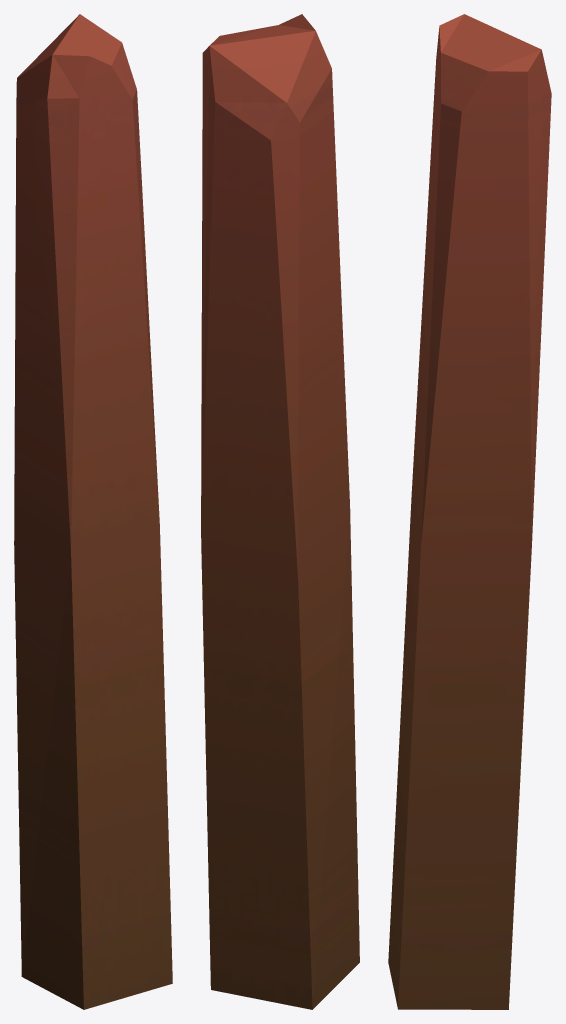
3 renders of one model, left to right at view 1: azimuth 30°, elevation 25°; view 2: azimuth 150°, elevation 25°; view 3: azimuth 270°, elevation 25°, orthographic. The views are drawn at different scales.
Parts seen in each view (by area): view 1: WoodenPole1; view 2: WoodenPole1; view 3: WoodenPole1.
Part boxes in pixels (x1,y1,x2,y2): WoodenPole1: (14, 14, 172, 1009); WoodenPole1: (201, 14, 359, 1009); WoodenPole1: (388, 14, 551, 1009).
Size of the model in its own units: 0.3253 by 2.85 by 0.4406.
Materials: 1 (1 with a texture image).
